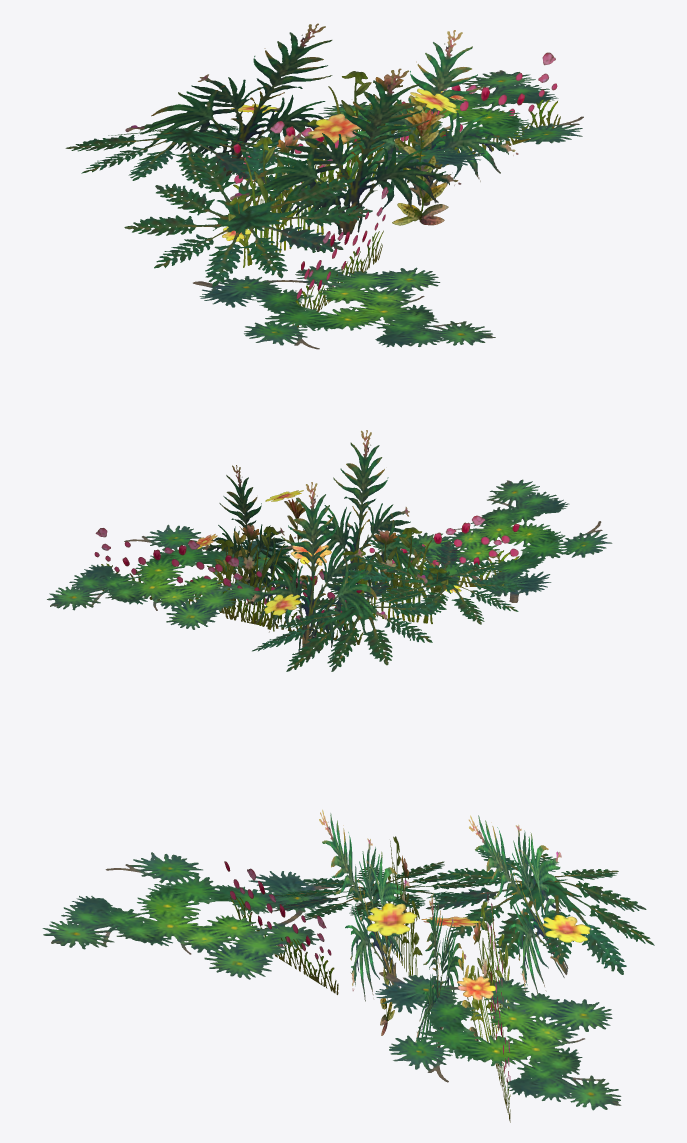
File: zhiwu5.FBX
The picture shows the model from 3 angles, top to bottom: view 1: azimuth 30°, elevation 25°; view 2: azimuth 150°, elevation 25°; view 3: azimuth 270°, elevation 25°; orthographic projection. The views are drawn at different scales.
Parts seen in each view (by area): view 1: 对象031; view 2: 对象031; view 3: 对象031.
Part boxes in pixels (<box>): 对象031: <box>65,23,583,349</box>; 对象031: <box>47,430,612,671</box>; 对象031: <box>42,809,654,1122</box>.
Size of the model in its own units: 4.6 by 1.8 by 4.77.
